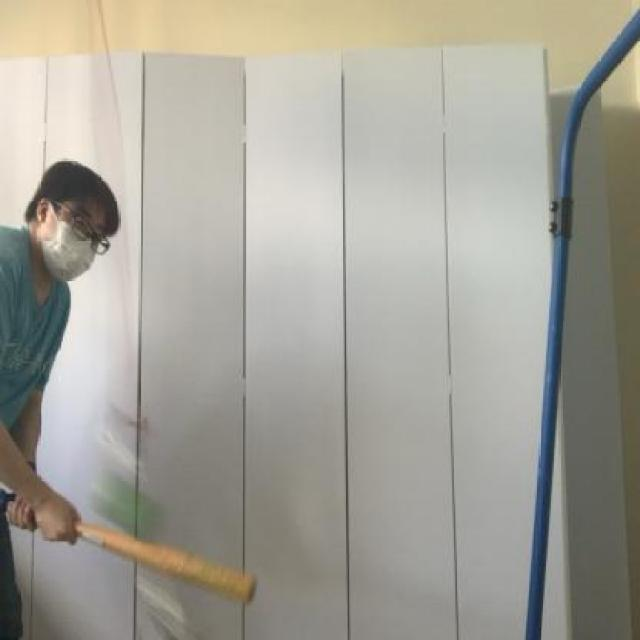baseball: (82, 457, 176, 558)
